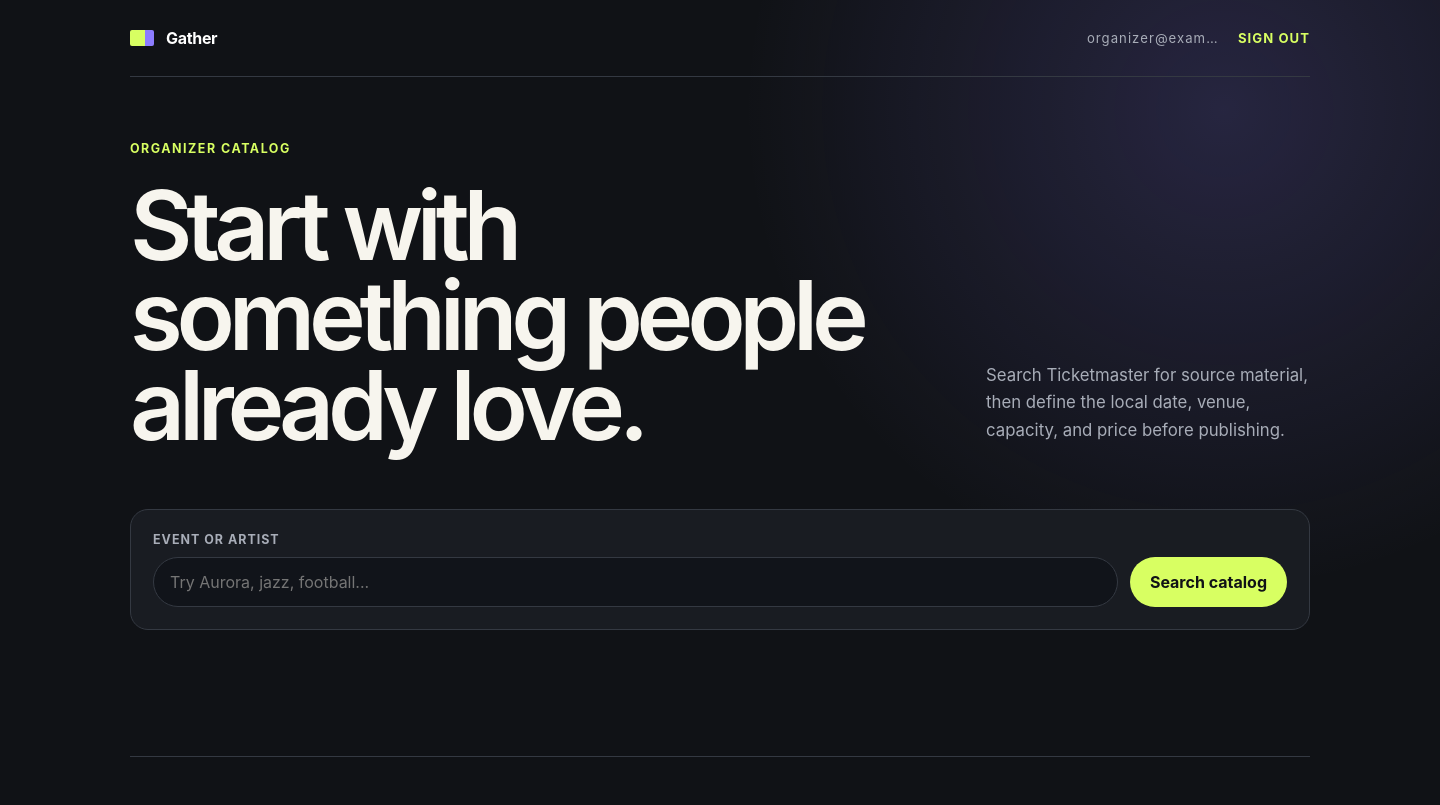
Scenario: OrganizerCatalogPage › shows an actionable empty state
Check: the text "organizer@example.com" is shown, box left=1087, top=30, right=1220, bottom=46
Type "No matches" into the search field labelled "Event or artist".
click(635, 582); type("No matches")  # box left=153, top=557, right=1118, bottom=607
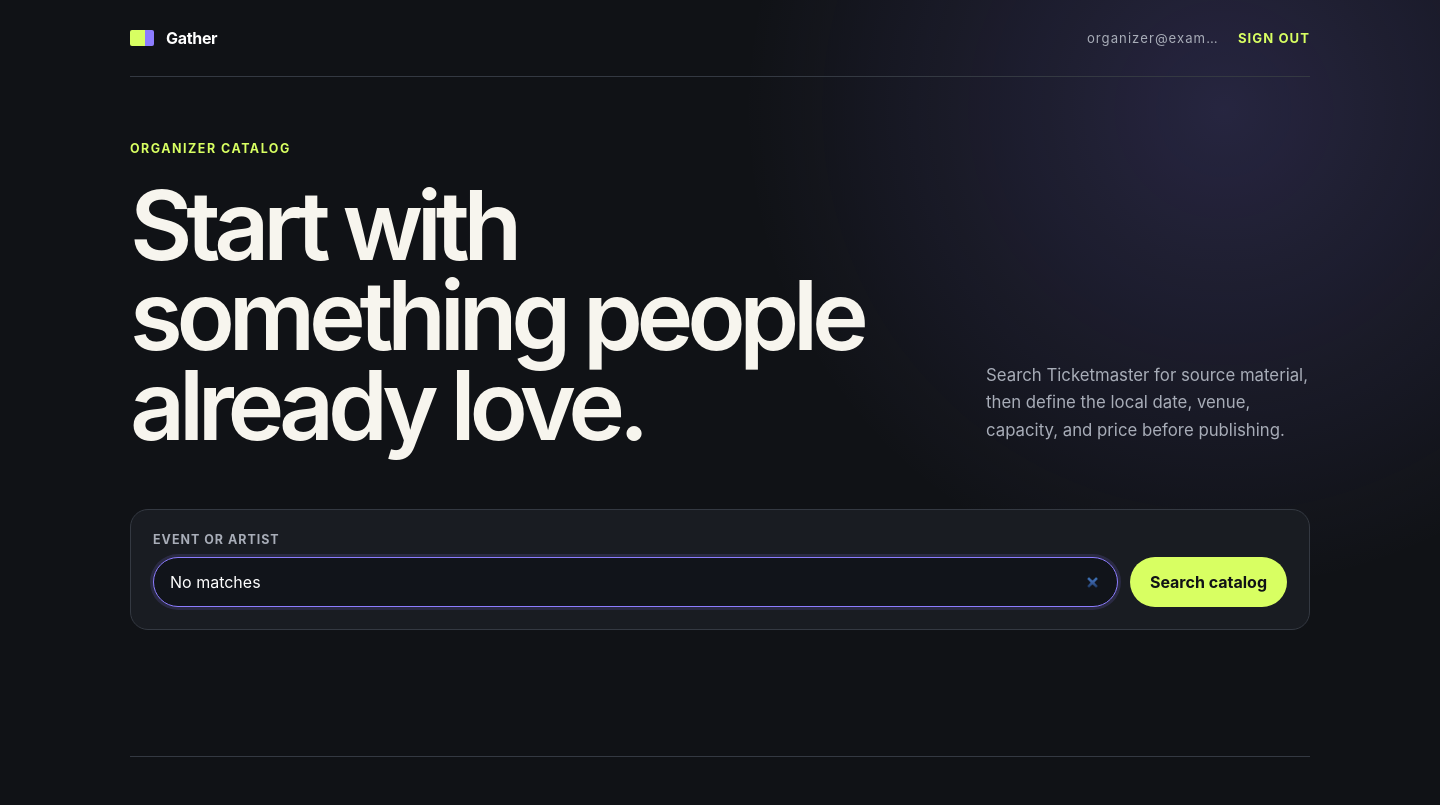
Click the button "Search catalog".
click(1208, 582)  # box left=1130, top=557, right=1287, bottom=607
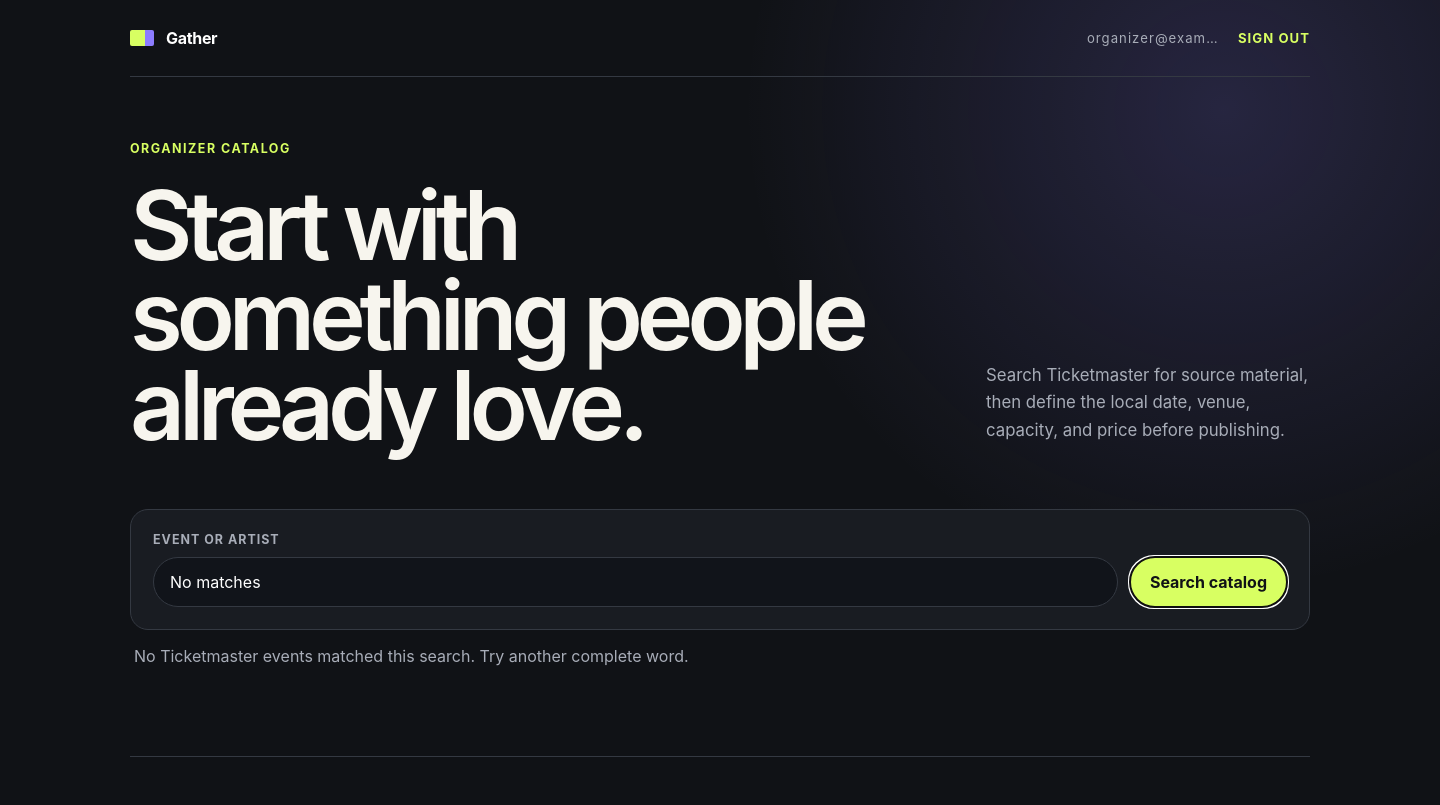
Check: the text "No Ticketmaster events matched" is shown, box left=134, top=646, right=688, bottom=666
